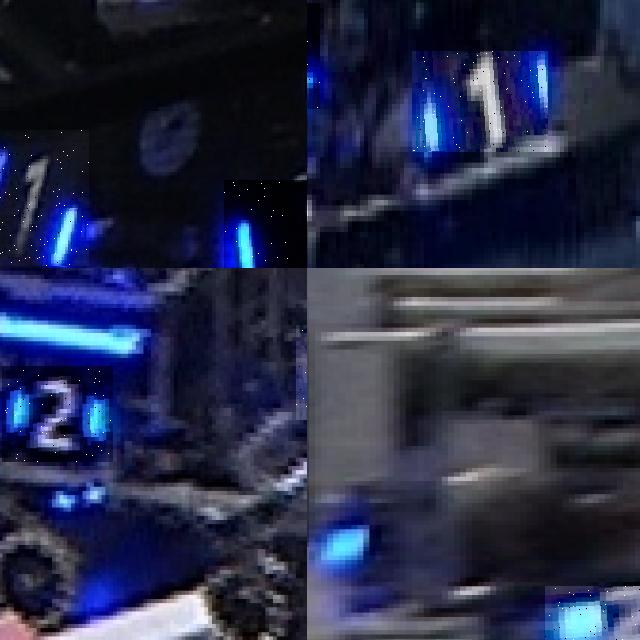B1: (412, 51, 548, 152), (0, 129, 89, 266), (223, 180, 307, 268)
B2: (2, 366, 113, 462), (544, 586, 640, 640)
